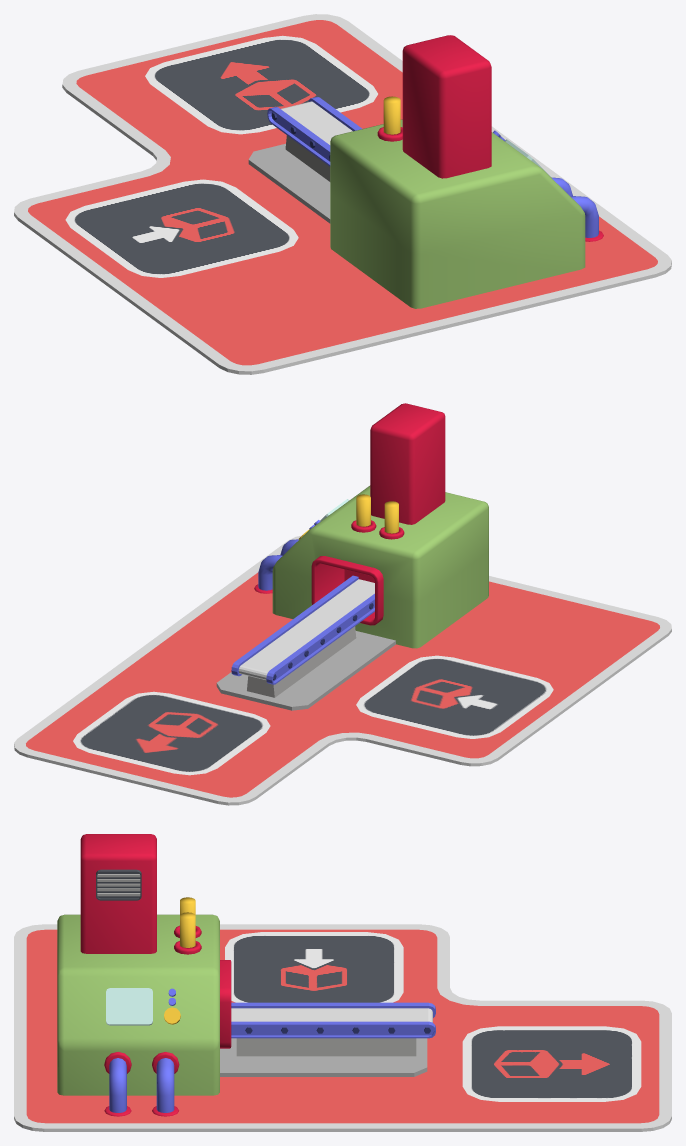
File: Iron Machine.fbx
The picture shows the model from 3 angles, top to bottom: view 1: azimuth 30°, elevation 25°; view 2: azimuth 150°, elevation 25°; view 3: azimuth 270°, elevation 25°; orthographic projection. The views are drawn at different scales.
Parts seen in each view (by area): view 1: Cube.015, Cube.014, Pick Up Box.004, Pick Up Box, Cube.021, Cube.012, Cube.159, Cube.158, Cube.013, Cylinder.033, Cylinder; view 2: Cube.015, Cube.014, Pick Up Box, Pick Up Box.004, Cube.021, Cube.012, Cube.158, Cube.159, Cube.070, Cube.013; view 3: Cube.015, Cube.014, Pick Up Box, Pick Up Box.004, Cube.021, Cube.159, Cube.012, Cube.013, Cube.158, Cube.022, Cube.157, Cube.070 (+3 smaller).
Boxes of the visible parts, x1,y1,x2,y2 form: Cube.015: [14, 14, 671, 374]; Cube.014: [330, 119, 585, 308]; Pick Up Box.004: [65, 179, 298, 277]; Pick Up Box: [145, 35, 377, 134]; Cube.021: [402, 35, 491, 178]; Cube.012: [248, 143, 330, 223]; Cube.159: [267, 97, 362, 166]; Cube.158: [281, 101, 352, 144]; Cube.013: [285, 135, 330, 181]; Cylinder.033: [383, 96, 400, 134]; Cylinder: [571, 196, 598, 237]; Cube.015: [14, 535, 671, 805]; Cube.014: [272, 485, 488, 648]; Pick Up Box: [73, 691, 270, 775]; Pick Up Box.004: [356, 655, 553, 738]; Cube.021: [370, 403, 445, 524]; Cube.012: [216, 631, 395, 710]; Cube.158: [238, 579, 374, 679]; Cube.159: [231, 575, 374, 684]; Cube.070: [311, 556, 383, 625]; Cube.013: [247, 626, 356, 697]; Cube.015: [14, 924, 671, 1131]; Cube.014: [57, 914, 219, 1095]; Pick Up Box: [462, 1026, 641, 1101]; Pick Up Box.004: [225, 932, 403, 1002]; Cube.021: [80, 834, 156, 953]; Cube.159: [231, 1002, 435, 1038]; Cube.012: [220, 1038, 427, 1076]; Cube.013: [236, 1038, 416, 1056]; Cube.158: [231, 1008, 432, 1022]; Cube.022: [106, 988, 152, 1025]; Cube.157: [96, 869, 141, 900]; Cube.070: [220, 960, 231, 1048].
Size of the model in its own units: 1219 by 574 by 1659.
